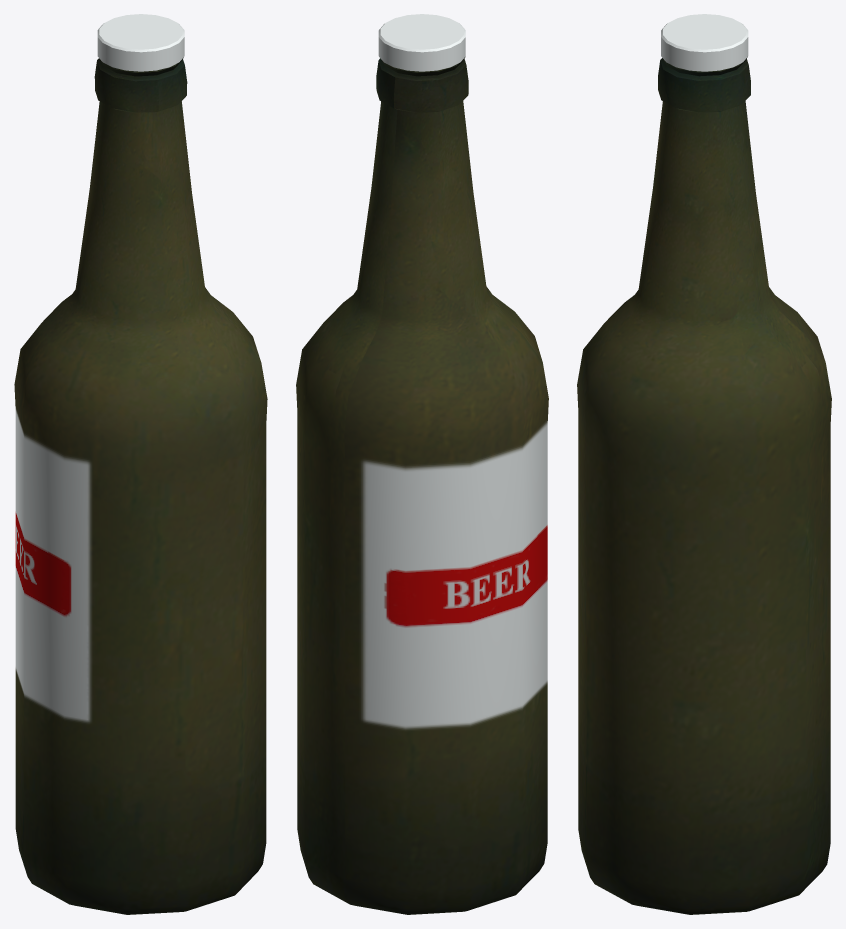
File: Beer 2.FBX
3 views of the same model, side by side, from view 1: azimuth 30°, elevation 25°; view 2: azimuth 150°, elevation 25°; view 3: azimuth 270°, elevation 25° (orthographic).
Parts seen in each view (by area): view 1: Beer 2; view 2: Beer 2; view 3: Beer 2.
Part boxes in pixels (<box>): Beer 2: <box>14,14,267,914</box>; Beer 2: <box>296,14,548,914</box>; Beer 2: <box>577,14,831,914</box>.
Bounding box in the file's own units: 7.18 × 26.28 × 7.25.
Materials: 1 (1 with a texture image).
